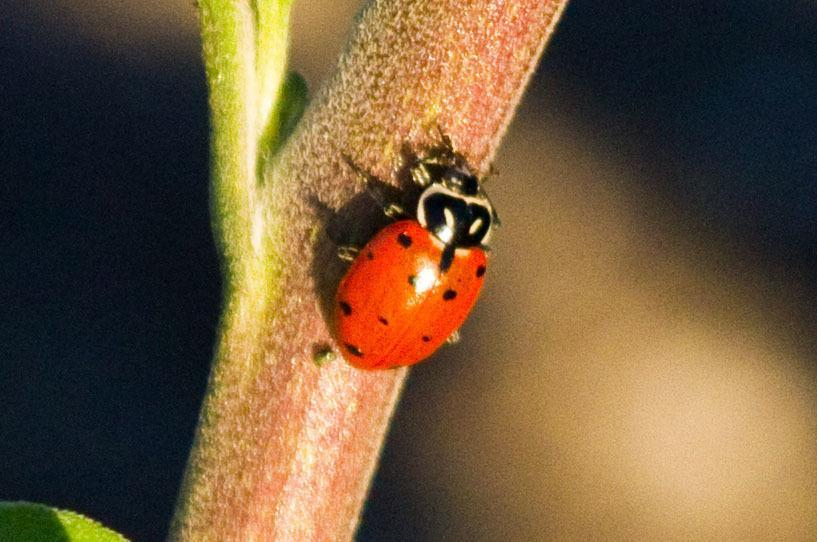ladybug: (324, 138, 507, 377)
